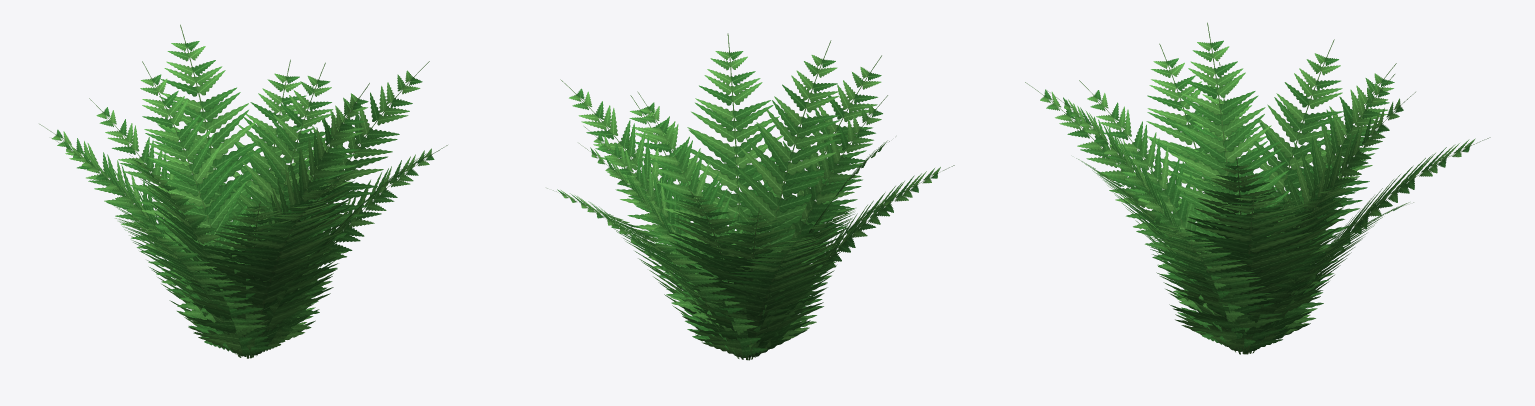
File: felce_a.glb
3 views of the same model, side by side, from view 1: azimuth 30°, elevation 25°; view 2: azimuth 150°, elevation 25°; view 3: azimuth 270°, elevation 25° (orthographic). The views are drawn at different scales.
Parts seen in each view (by area): view 1: fronde; view 2: fronde; view 3: fronde.
Part boxes in pixels (box(x1,y1,x2,y2)): fronde: box(39, 24, 447, 358); fronde: box(547, 33, 954, 360); fronde: box(1025, 22, 1490, 354).
Bounding box in the file's own units: 2.02 × 1.28 × 2.19.
1 material, 1 textured.
